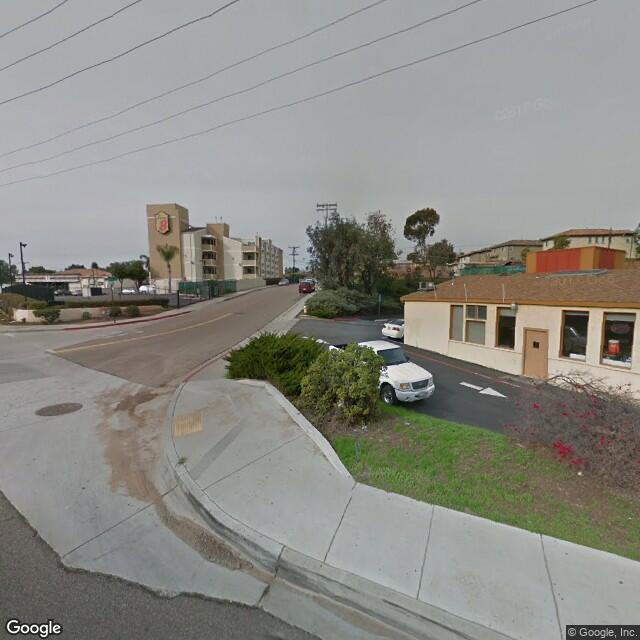litter: (576, 472, 587, 481)
